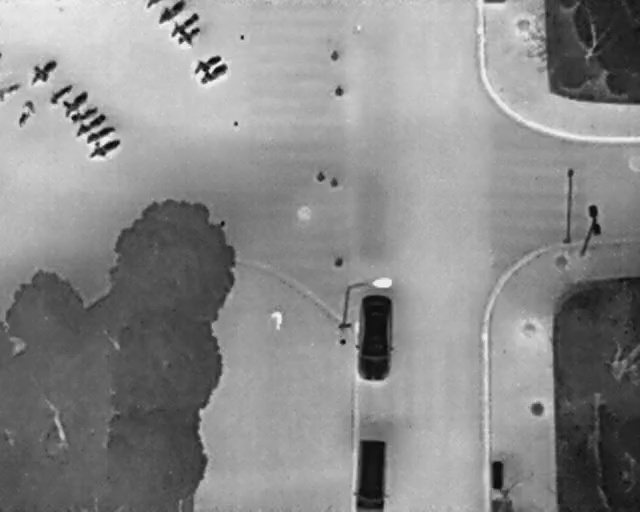Bicycle: (21, 51, 64, 92), (53, 81, 92, 120), (70, 108, 110, 141), (84, 133, 124, 162), (188, 48, 226, 78), (165, 8, 203, 38), (172, 20, 207, 52), (195, 60, 232, 87), (44, 78, 77, 108), (66, 101, 103, 127), (81, 122, 119, 146), (14, 96, 39, 130), (157, 0, 186, 23), (0, 81, 21, 100), (145, 0, 159, 10)
Car: (354, 292, 396, 382), (353, 437, 388, 511)
Person: (270, 309, 283, 330)
